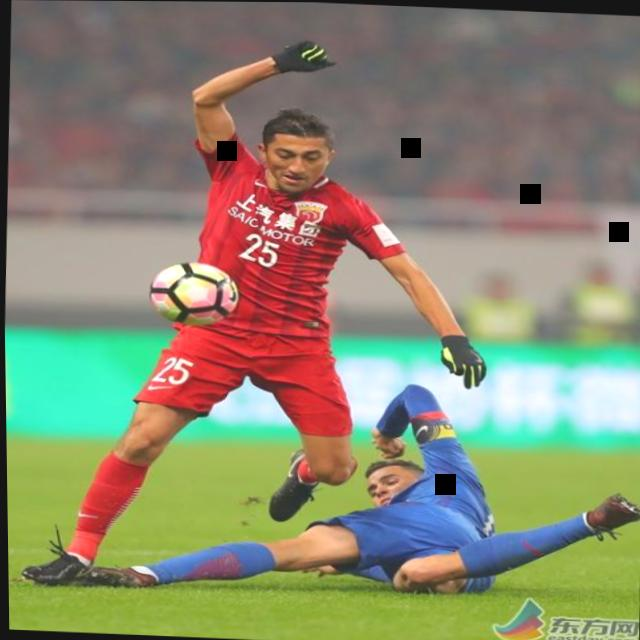Fall-Detected: (69, 364, 640, 602)
